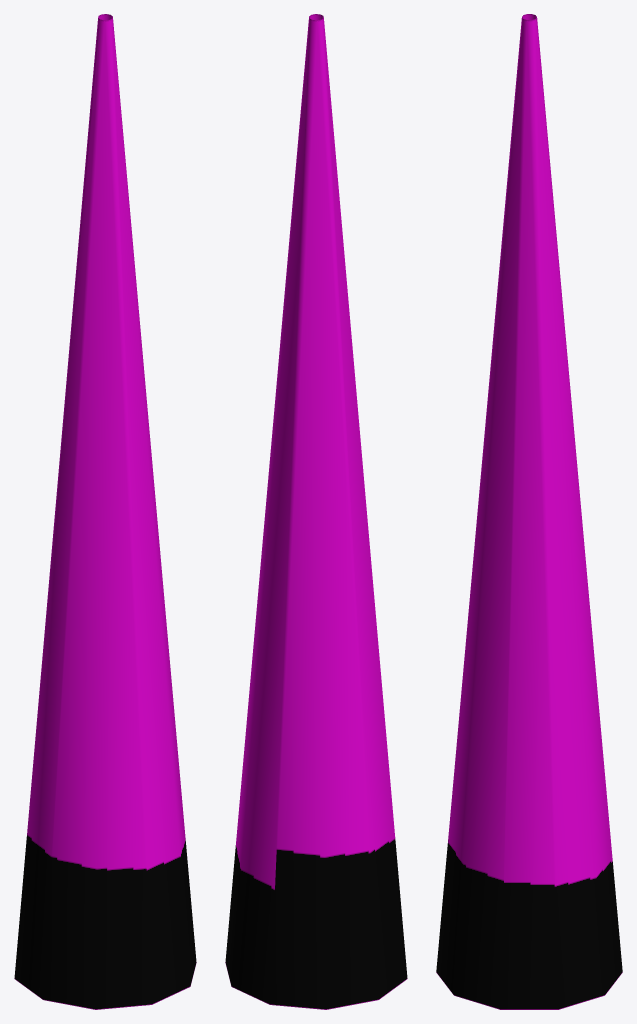
Rendered from LightCone_Piink3.fbx.
3 renders of one model, left to right at view 1: azimuth 30°, elevation 25°; view 2: azimuth 150°, elevation 25°; view 3: azimuth 270°, elevation 25°, orthographic.
Parts seen in each view (by area): view 1: SM_Light_Cone.001; view 2: SM_Light_Cone.001; view 3: SM_Light_Cone.001.
Part boxes in pixels (<box>): SM_Light_Cone.001: <box>14,14,196,1009</box>; SM_Light_Cone.001: <box>225,14,407,1009</box>; SM_Light_Cone.001: <box>436,14,622,1009</box>.
Bounding box in the file's own units: 330 × 1960 × 347.
Materials: 1 (1 with a texture image).
